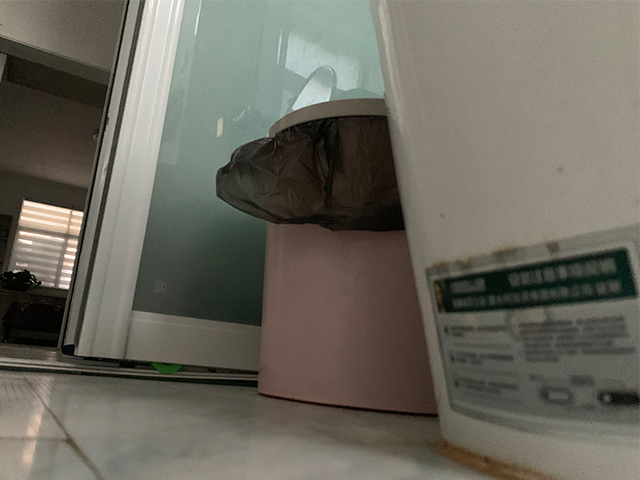closestool: (368, 1, 640, 479)
trashcan: (256, 97, 441, 416)
